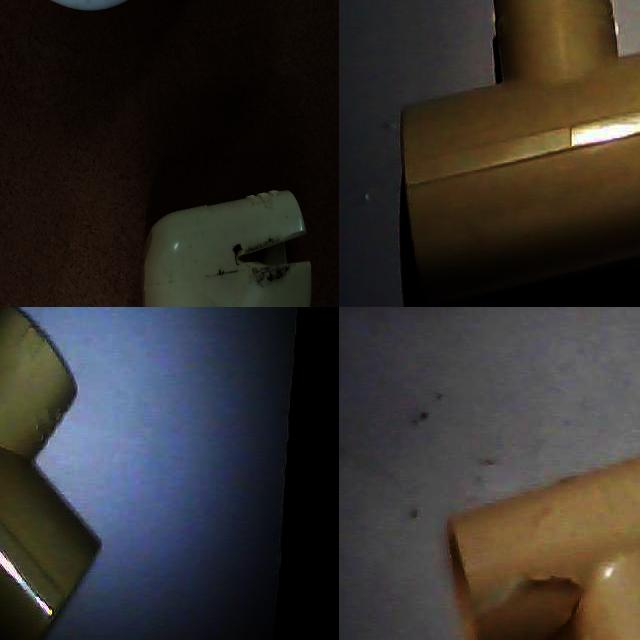Defective: (484, 559, 587, 640), (43, 68, 88, 171)
L Joint: (18, 63, 207, 291)
T Joint: (400, 0, 640, 307), (449, 456, 640, 640)
